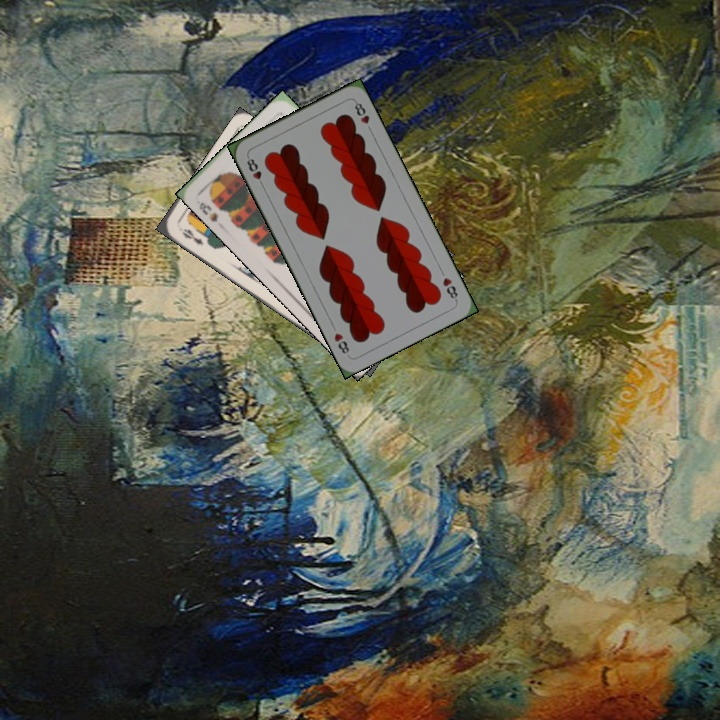EO: (178, 224, 206, 247)
H8: (243, 152, 267, 190), (439, 273, 460, 304)
S8: (195, 198, 220, 225)
